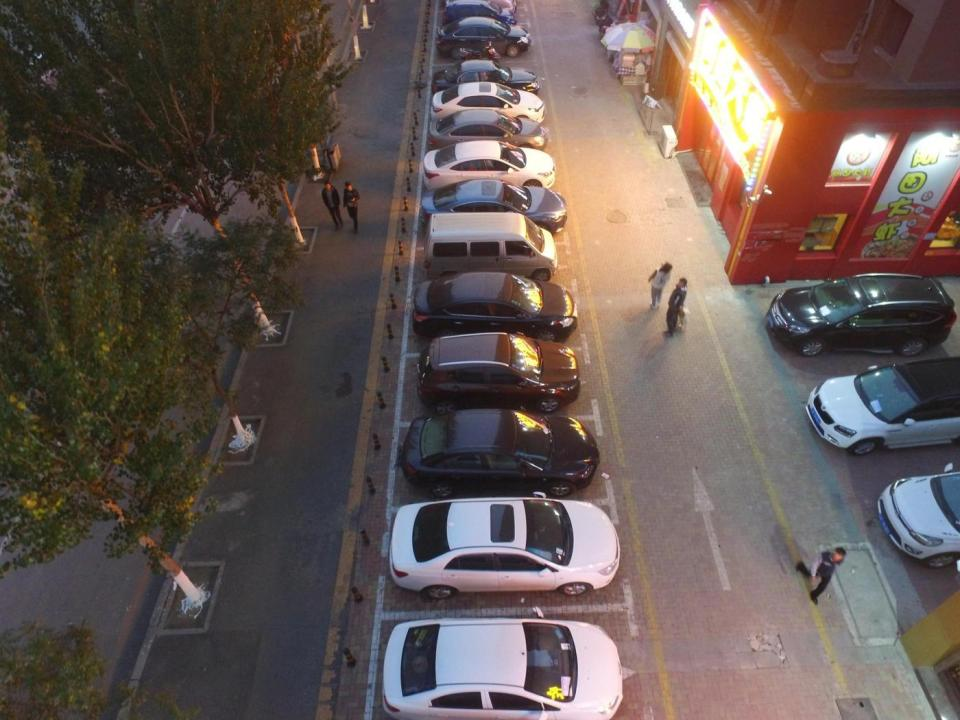car: (384, 608, 627, 717), (391, 498, 621, 600), (401, 410, 596, 498), (765, 271, 956, 360), (806, 358, 960, 454), (420, 336, 580, 412), (412, 274, 576, 340), (873, 463, 960, 566), (418, 183, 567, 234), (424, 136, 559, 190), (433, 84, 542, 130), (428, 109, 548, 147), (432, 62, 540, 100), (437, 17, 528, 61)
van: (428, 211, 559, 280), (443, 1, 516, 26)
